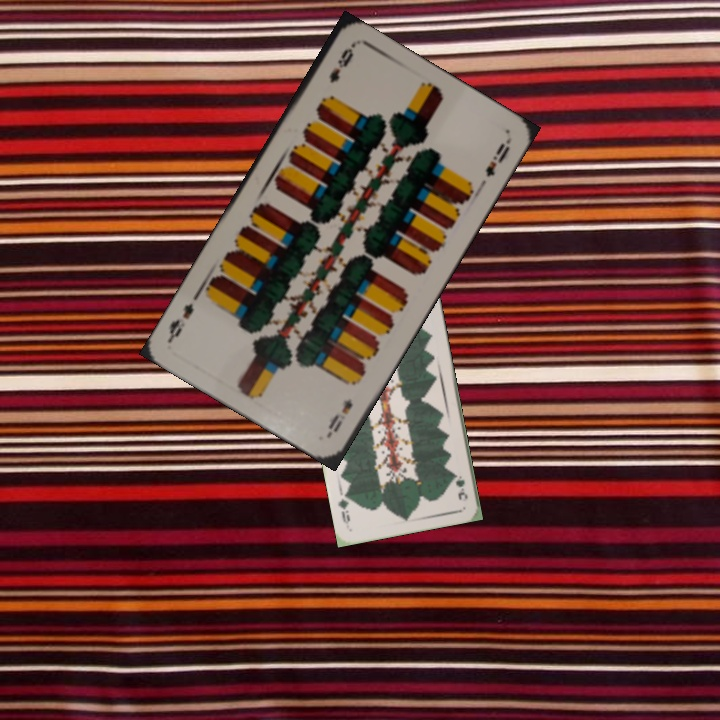E9: (324, 394, 355, 438), (325, 44, 356, 86)
G9: (450, 469, 470, 503)
